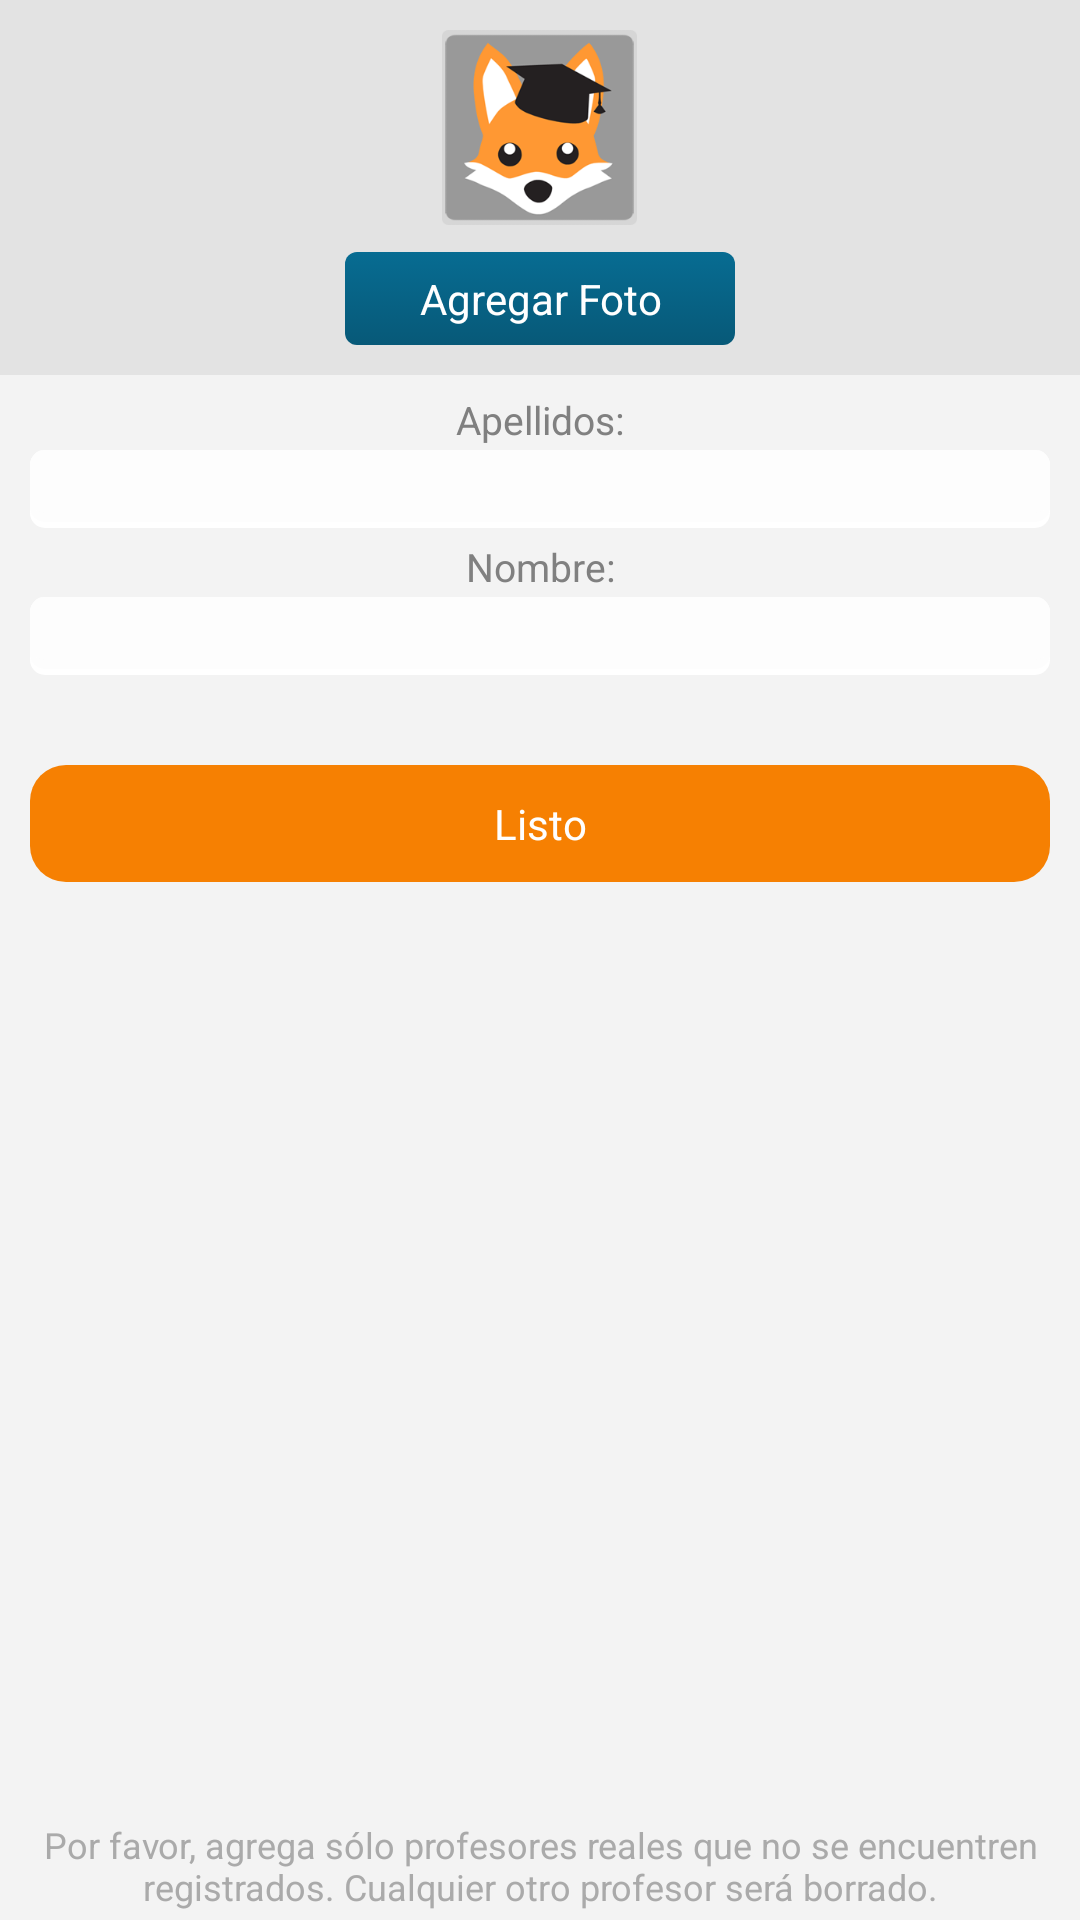

Icon bounding boxes for this 1080x1920 phone screenshot, format (x1, y1, x2, y2):
profesores: (445, 35, 634, 221)
